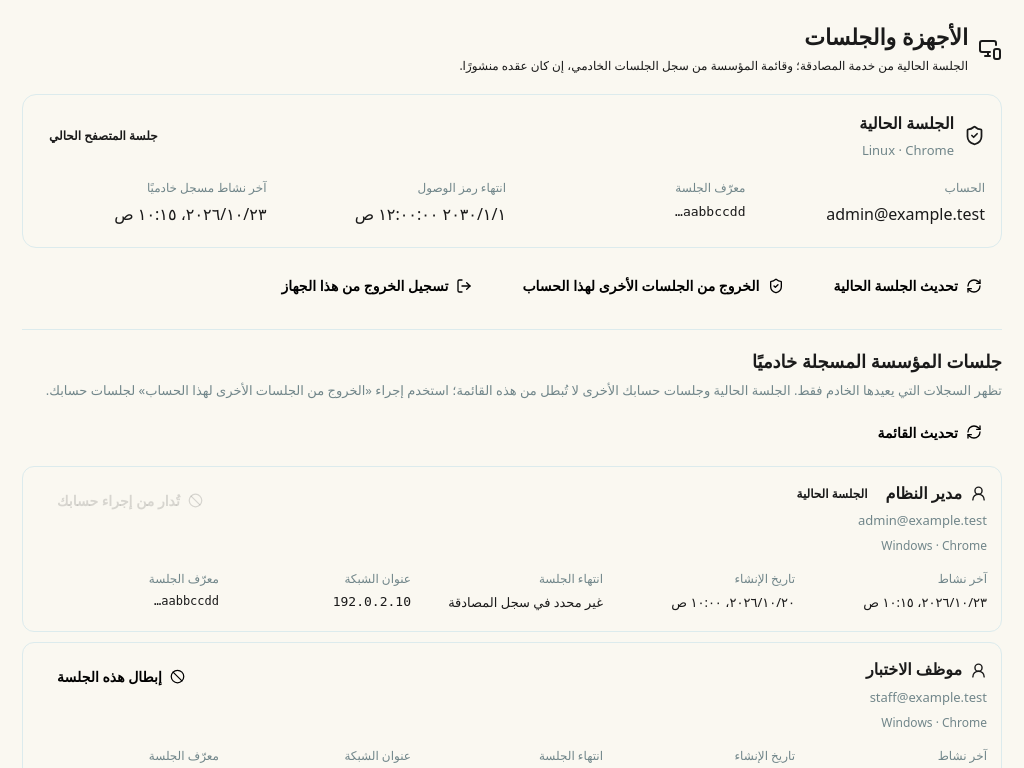
Test: central device and session management › does not show a success notice when the revocation RPC fails
Click the button with aria-label "إبطال جلسة موظف الاختبار".
click(121, 677)  # box [37,657,205,696]
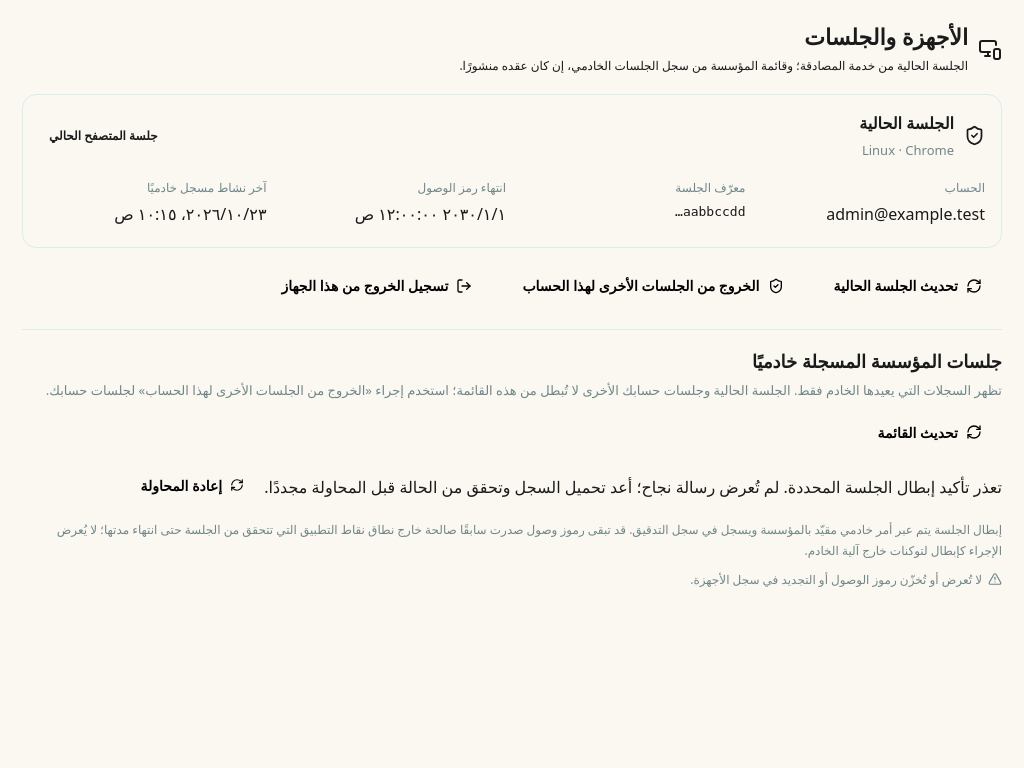
Expected: the message is shown, [22,466,1002,505]
Now the text "تعذر تأكيد إبطال الجلسة المحددة" is shown, box [264,475,1002,497]
Now the text "موظف الاختبار" is gone
